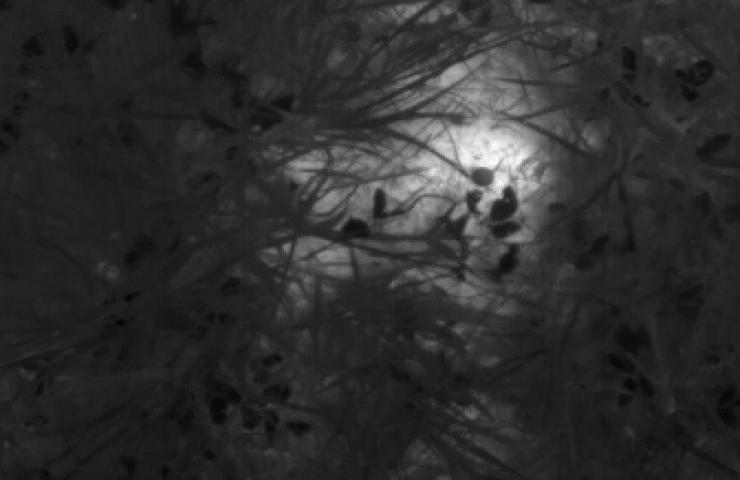landmines: (264, 6, 603, 338)
